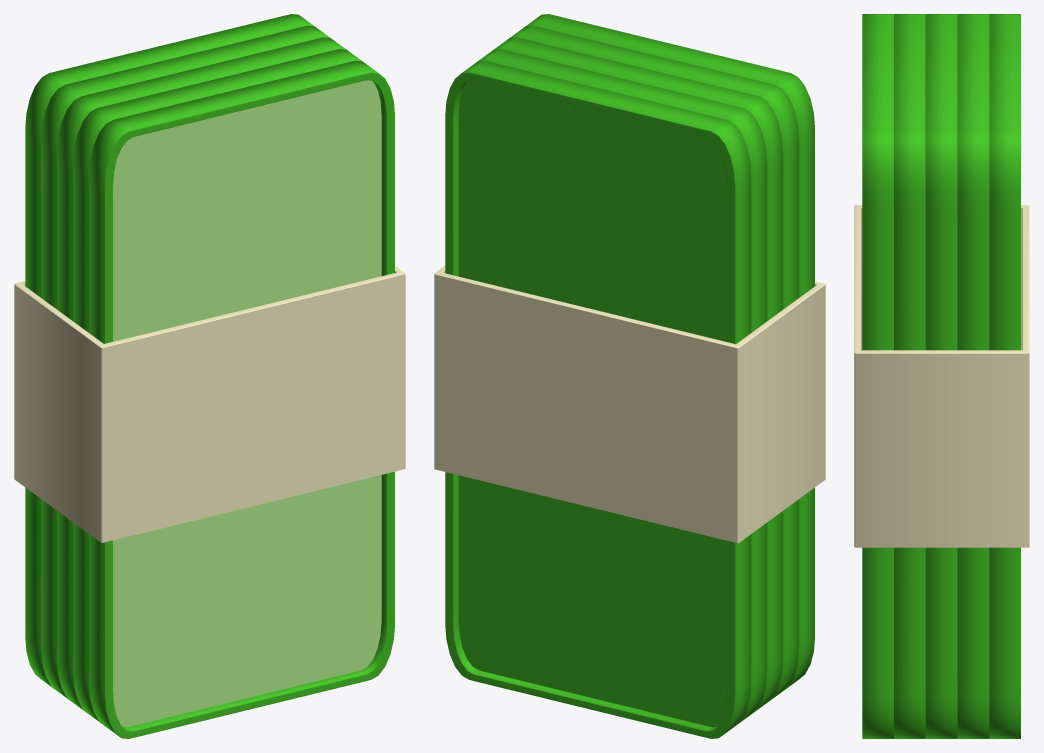
Rendered from money.fbx.
3 views of the same model, side by side, from view 1: azimuth 30°, elevation 25°; view 2: azimuth 150°, elevation 25°; view 3: azimuth 270°, elevation 25° (orthographic).
Parts seen in each view (by area): view 1: Cash pile1; view 2: Cash pile1; view 3: Cash pile1.
Boxes of the visible parts, x1,y1,x2,y2 form: Cash pile1: (14,14,405,738); Cash pile1: (434,14,825,738); Cash pile1: (854,14,1029,738).
Size of the model in its own units: 210 by 105 by 400.
